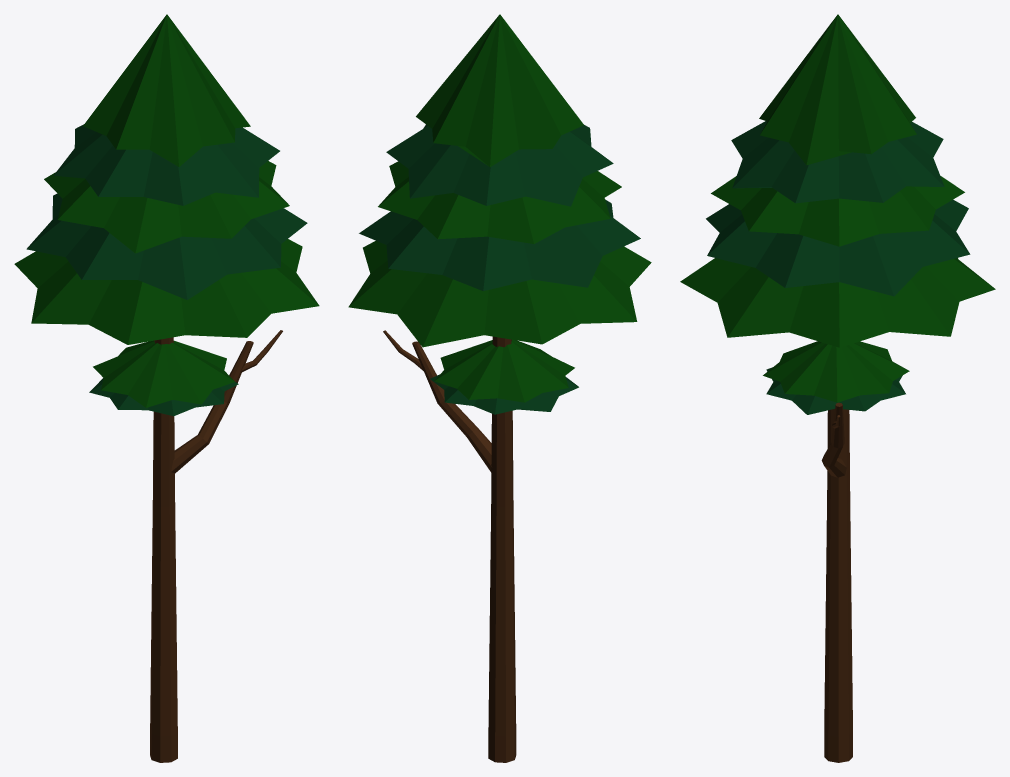
File: Pine-Small-2.fbx
The picture shows the model from 3 angles, left to right: view 1: azimuth 30°, elevation 25°; view 2: azimuth 150°, elevation 25°; view 3: azimuth 270°, elevation 25°; orthographic projection.
Visible parts, largest first — view 1: Cylinder.038; view 2: Cylinder.038; view 3: Cylinder.038.
Boxes of the visible parts, x1,y1,x2,y2 form: Cylinder.038: [14, 14, 319, 762]; Cylinder.038: [348, 14, 651, 762]; Cylinder.038: [680, 14, 995, 762].
Bounding box in the file's own units: 326 × 846 × 326.
